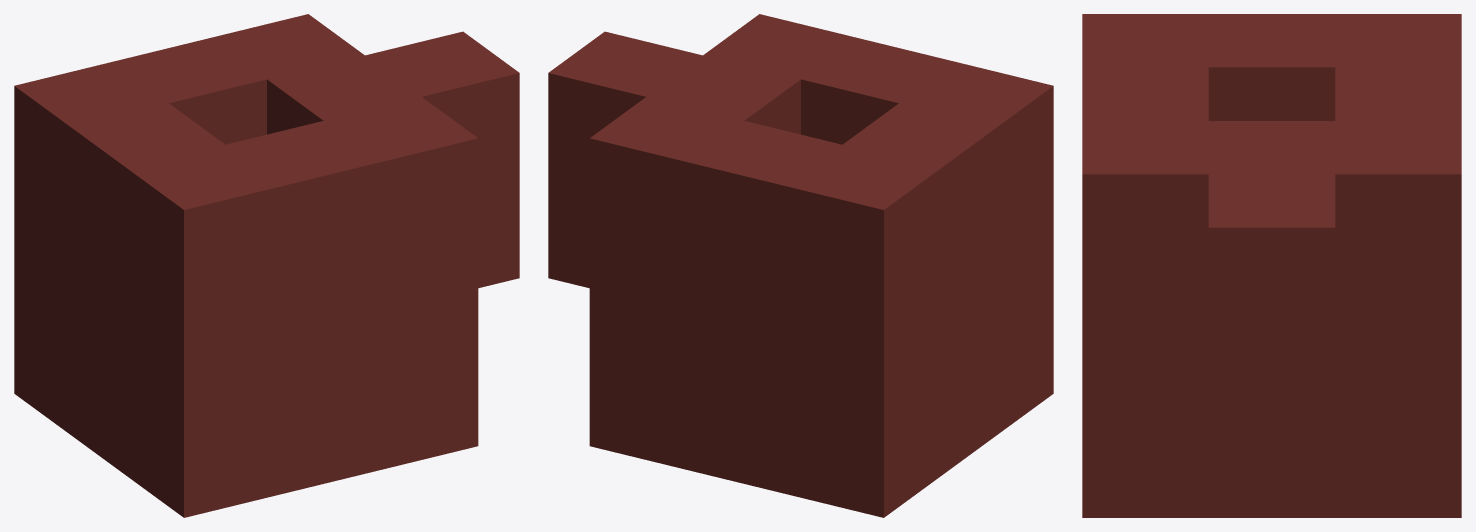
The model's file is mug_b.obj.
The picture shows the model from 3 angles, left to right: view 1: azimuth 30°, elevation 25°; view 2: azimuth 150°, elevation 25°; view 3: azimuth 270°, elevation 25°; orthographic projection. The views are drawn at different scales.
Bounding box in the file's own units: 0.4 × 0.3 × 0.3.
1 material, 1 textured.
